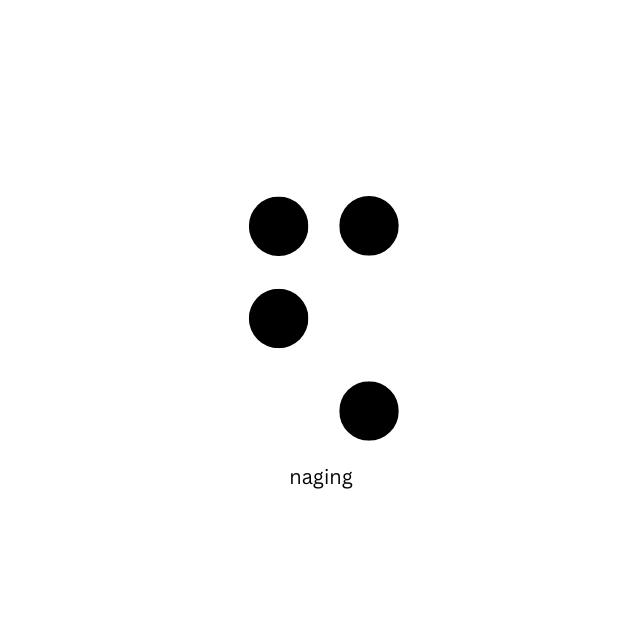one_cell_non_alphabet_naging: (245, 193, 400, 441)
